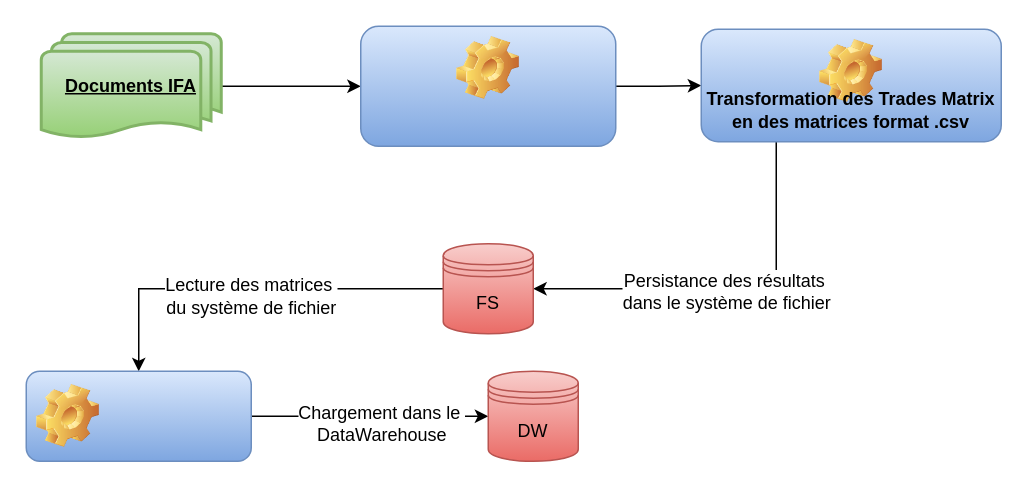
The diagram is 1028 pixels wide and 488 high, and some of its shapes have lost their labels. Here are the shapes that lost their labels. From the top down, the centre of each, then its label:
the point at 487,85: Détection des Trade Matrix et Labellisation par Produit
the point at 138,415: Adaptation au Data-Mart OCP
